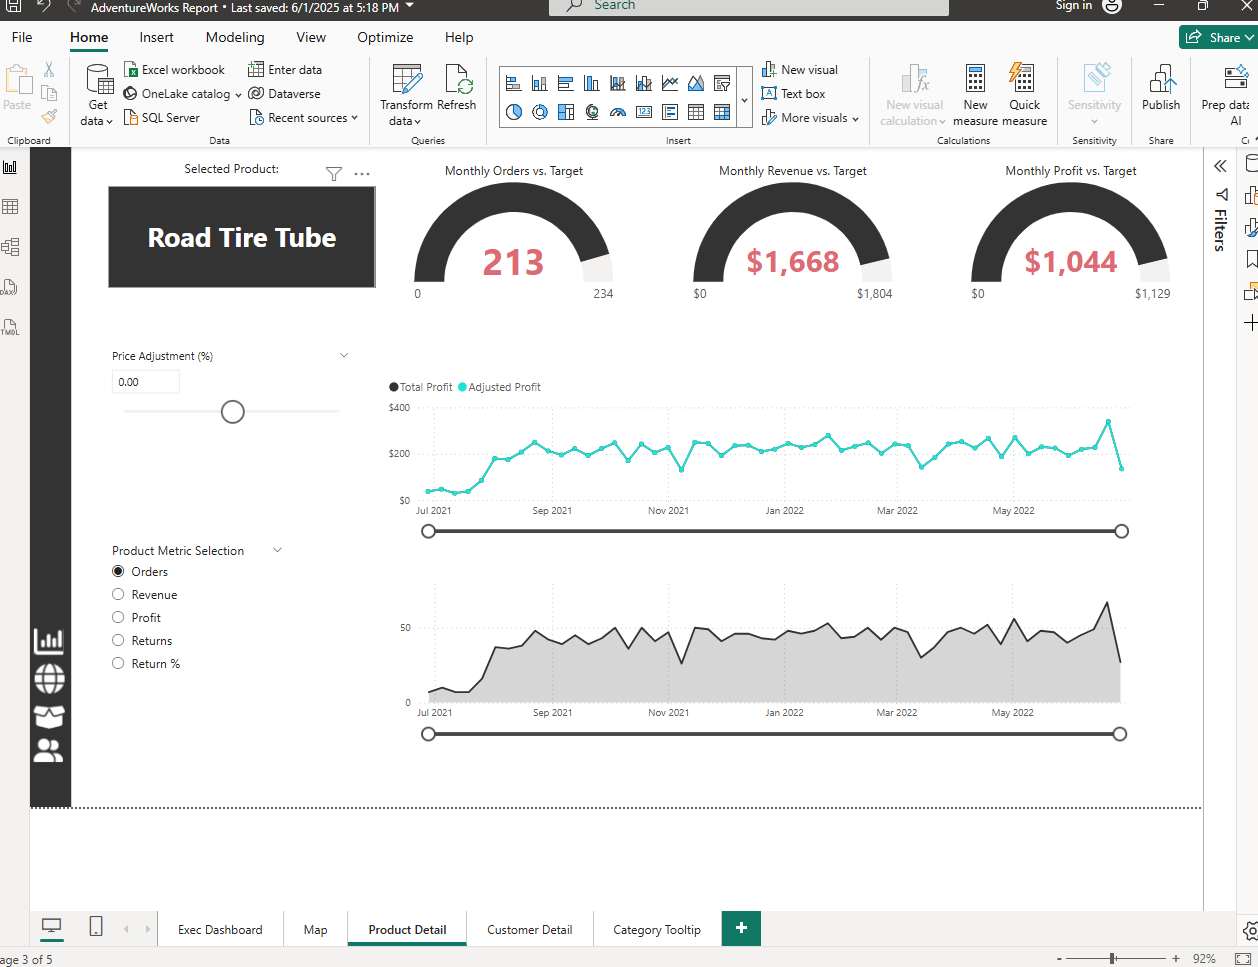

The dashboard page shown, as its layout file describes it:
{"tool":"powerbi","page":{"name":"Product Detail","canvas":[1280,720],"ordinal":2},"visuals":[{"type":"shape","box":[0,0,45,720.5],"z":0},{"type":"gauge","title":"Monthly Orders vs. Target","fields":{"Y":["Measure Table.Total Orders"],"MaxValue":["Measure Table.Order Target"]},"box":[412.9,16.8,231,162.6],"z":1000},{"type":"actionButton","box":[0.2,519,44.7,40.7],"z":1000,"group":"g1"},{"type":"gauge","title":"Monthly Revenue vs. Target","fields":{"Y":["Measure Table.Total Revenue"],"MaxValue":["Measure Table.Revenue Target"]},"box":[716.8,16.8,231,162.6],"z":2000},{"type":"actionButton","box":[1.4,559.7,46.1,40.7],"z":2000,"group":"g1"},{"type":"gauge","title":"Monthly Profit vs. Target","fields":{"Y":["Measure Table.Total Profit"],"MaxValue":["Measure Table.Profit Target"]},"box":[1020.6,16.8,231,162.6],"z":3000},{"type":"actionButton","box":[0.2,600.4,44.7,42],"z":3000,"group":"g1"},{"type":"lineChart","title":"Profit Trending","fields":{"Category":["Calendar Lookup.Date Hierarchy.Start of Year","Calendar Lookup.Date Hierarchy.Start of Month","Calendar Lookup.Date Hierarchy.Start of Week","Calendar Lookup.Date Hierarchy.Date"],"Y":["Measure Table.Total Profit","Measure Table.Adjusted Profit"]},"box":[385.8,242.6,833.5,188.4],"z":4000},{"type":"actionButton","box":[0,637.5,43.6,40.3],"z":4000,"group":"g1"},{"type":"areaChart","title":"Return Trending","fields":{"Y":["Measure Table.Total Orders"],"Category":["Calendar Lookup.Date Hierarchy.Start of Year","Calendar Lookup.Date Hierarchy.Start of Month","Calendar Lookup.Date Hierarchy.Start of Week","Calendar Lookup.Date Hierarchy.Date"]},"box":[398.7,461.9,820.6,189.7],"z":5000},{"type":"card","fields":{"Values":["Min(Product Lookup.ProductName)"]},"box":[85.2,42.6,291.6,111],"z":6000},{"type":"textbox","box":[163.9,10.3,134.2,32.3],"z":7000},{"type":"group","id":"g1","title":"Navigation buttons","box":[0,519,47.5,158.7],"z":8000},{"type":"slicer","fields":{"Values":["Price Adjustment (%).Price Adjustment (%)"]},"box":[76.1,215.5,283.9,131.6],"z":9000},{"type":"slicer","fields":{"Values":["Product Metric Selection.Product Metric Selection"]},"box":[76.1,427.1,211.6,210.3],"z":10000}]}

Visuals, with their boxes on the page's 1280x720 design canvas (x1, y1, x2, y2). These are canvas units, not pixel positions in the 1258x967 screenshot, which may show the page scaled, cropped or inside an application window:
shape: <box>0,0,45,720</box>
"Monthly Orders vs. Target" gauge: <box>413,17,644,179</box>
actionButton: <box>0,519,45,560</box>
"Monthly Revenue vs. Target" gauge: <box>717,17,948,179</box>
actionButton: <box>1,560,48,600</box>
"Monthly Profit vs. Target" gauge: <box>1021,17,1252,179</box>
actionButton: <box>0,600,45,642</box>
"Profit Trending" lineChart: <box>386,243,1219,431</box>
actionButton: <box>0,638,44,678</box>
"Return Trending" areaChart: <box>399,462,1219,652</box>
card - Min(Product Lookup.ProductName): <box>85,43,377,154</box>
textbox: <box>164,10,298,43</box>
"Navigation buttons" group: <box>0,519,48,678</box>
slicer - Price Adjustment (%).Price Adjustment (%): <box>76,216,360,347</box>
slicer - Product Metric Selection.Product Metric Selection: <box>76,427,288,637</box>
